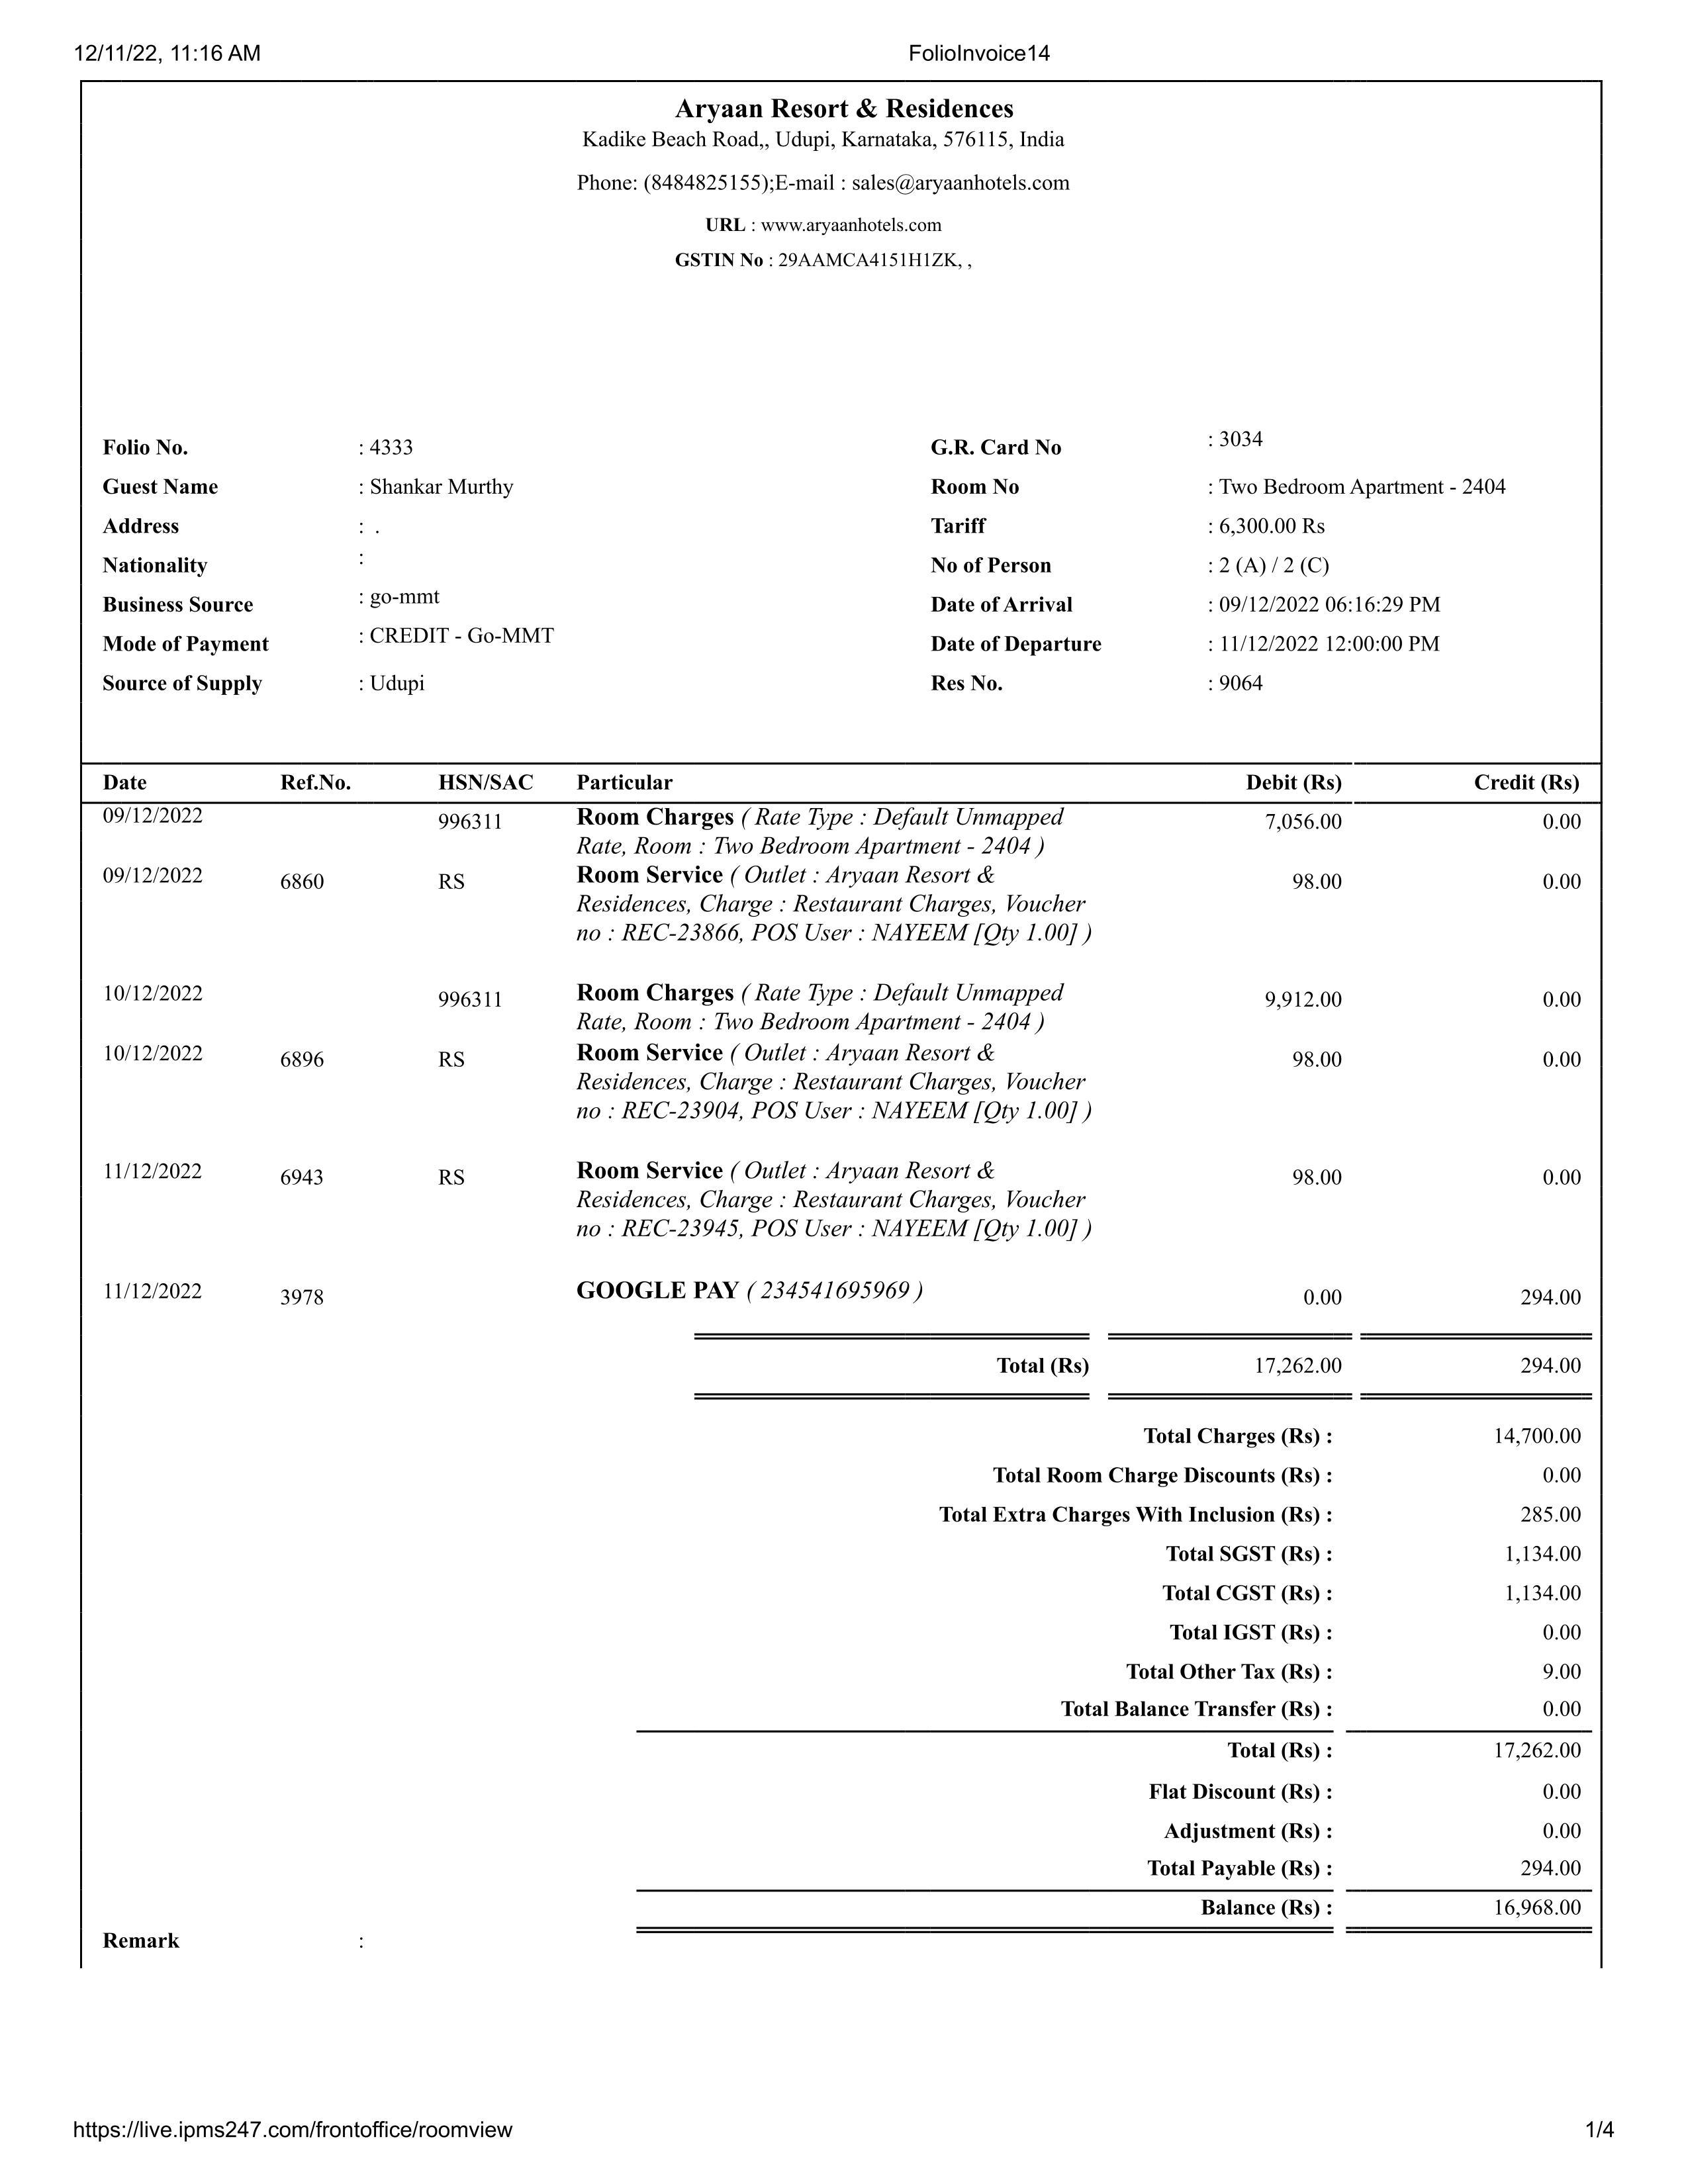InvoiceDate: (64, 39, 163, 73)
InvoiceNumber: (1213, 667, 1284, 700)
TotalAmount: (1482, 1886, 1590, 1929)
